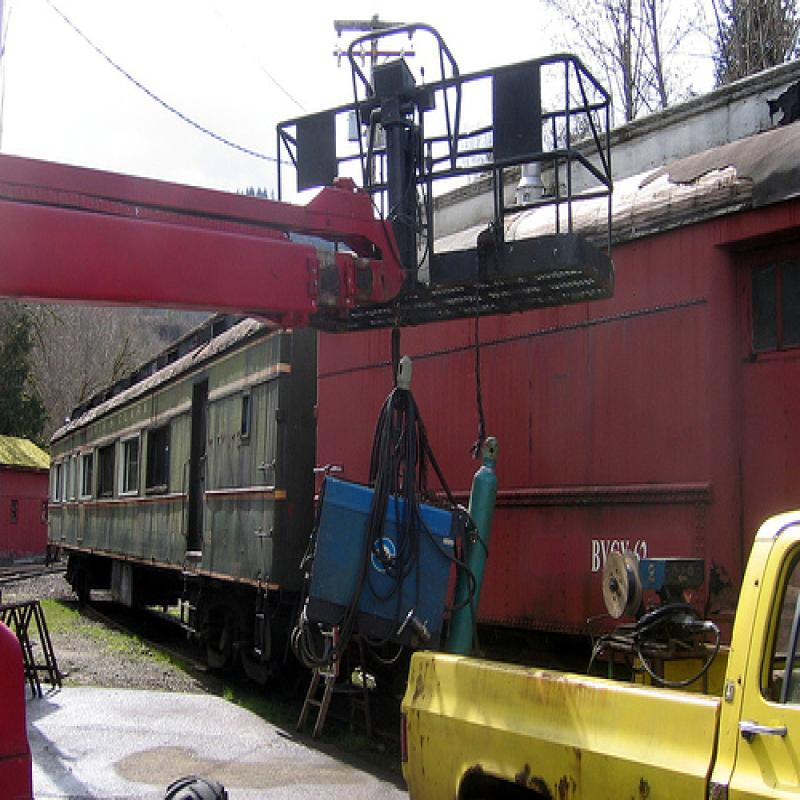train: (47, 57, 800, 680)
